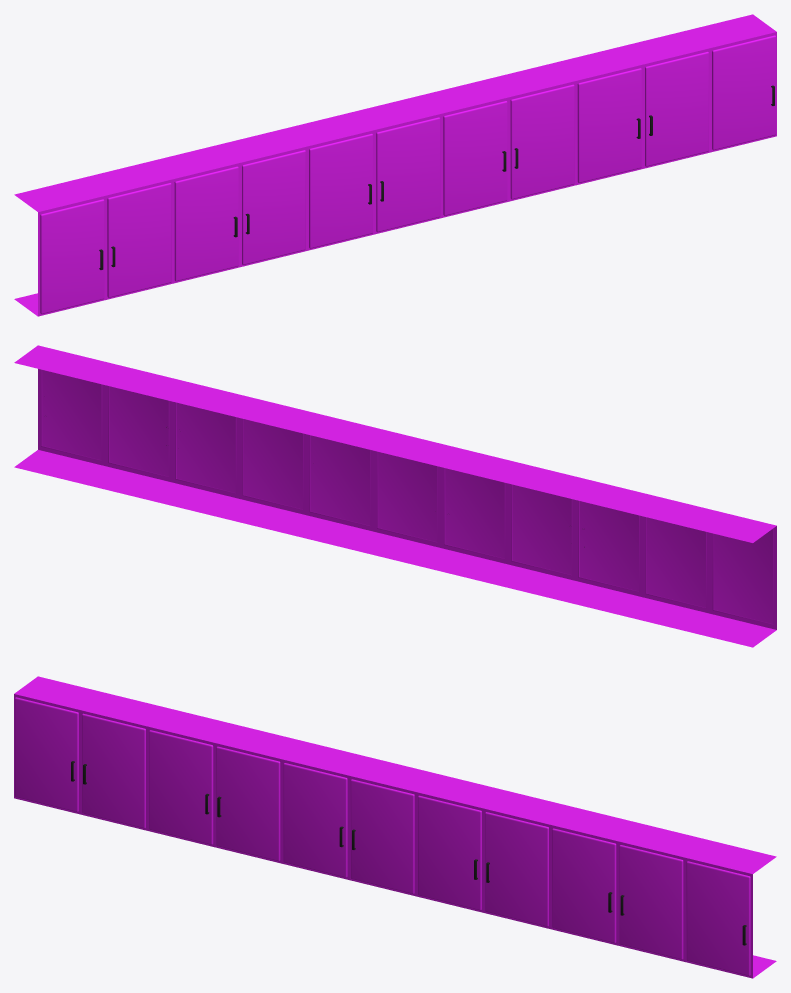
File: SM_Armario_Alto.fbx
The picture shows the model from 3 angles, top to bottom: view 1: azimuth 30°, elevation 25°; view 2: azimuth 150°, elevation 25°; view 3: azimuth 330°, elevation 25°; orthographic projection.
Visible parts, largest first — view 1: SM_Armario_010, SM_Armario_016, SM_Armario_011, SM_Armario_013, SM_Armario_018, SM_Armario_019, SM_Armario_012, SM_Armario_017, SM_Armario_014, SM_Armario_021, SM_Armario_015, SM_Armario_020; view 2: SM_Armario_010, SM_Armario_011, SM_Armario_019, SM_Armario_014, SM_Armario_017, SM_Armario_021, SM_Armario_012, SM_Armario_013, SM_Armario_020, SM_Armario_015, SM_Armario_018, SM_Armario_016; view 3: SM_Armario_010, SM_Armario_016, SM_Armario_019, SM_Armario_021, SM_Armario_020, SM_Armario_013, SM_Armario_014, SM_Armario_015, SM_Armario_011, SM_Armario_018, SM_Armario_012, SM_Armario_017.
Part boxes in pixels (x1,y1,x2,y2): SM_Armario_010: (14, 14, 776, 316); SM_Armario_016: (376, 117, 440, 232); SM_Armario_011: (40, 199, 104, 314); SM_Armario_013: (174, 166, 238, 281); SM_Armario_018: (510, 84, 574, 199); SM_Armario_019: (577, 68, 641, 182); SM_Armario_012: (107, 183, 171, 297); SM_Armario_017: (443, 101, 507, 215); SM_Armario_014: (242, 150, 305, 264); SM_Armario_021: (712, 35, 775, 150); SM_Armario_015: (309, 133, 372, 248); SM_Armario_020: (645, 51, 708, 166); SM_Armario_010: (14, 345, 776, 647); SM_Armario_011: (712, 528, 773, 625); SM_Armario_019: (175, 402, 236, 494); SM_Armario_014: (511, 484, 572, 576); SM_Armario_017: (309, 435, 370, 526); SM_Armario_021: (41, 369, 102, 461); SM_Armario_012: (645, 517, 706, 608); SM_Armario_013: (578, 500, 639, 592); SM_Armario_020: (108, 386, 169, 477); SM_Armario_015: (444, 468, 505, 559); SM_Armario_018: (242, 419, 303, 510); SM_Armario_016: (377, 451, 437, 543); SM_Armario_010: (14, 676, 776, 978); SM_Armario_016: (350, 779, 414, 894); SM_Armario_019: (552, 828, 616, 943); SM_Armario_021: (686, 861, 750, 976); SM_Armario_020: (619, 845, 683, 959); SM_Armario_013: (149, 730, 213, 844); SM_Armario_014: (216, 746, 280, 861); SM_Armario_015: (283, 763, 347, 877); SM_Armario_011: (15, 697, 78, 812); SM_Armario_018: (485, 812, 548, 926); SM_Armario_012: (82, 713, 145, 828); SM_Armario_017: (418, 795, 481, 910).
Bounding box in the file's own units: 800 × 108 × 50.66.
